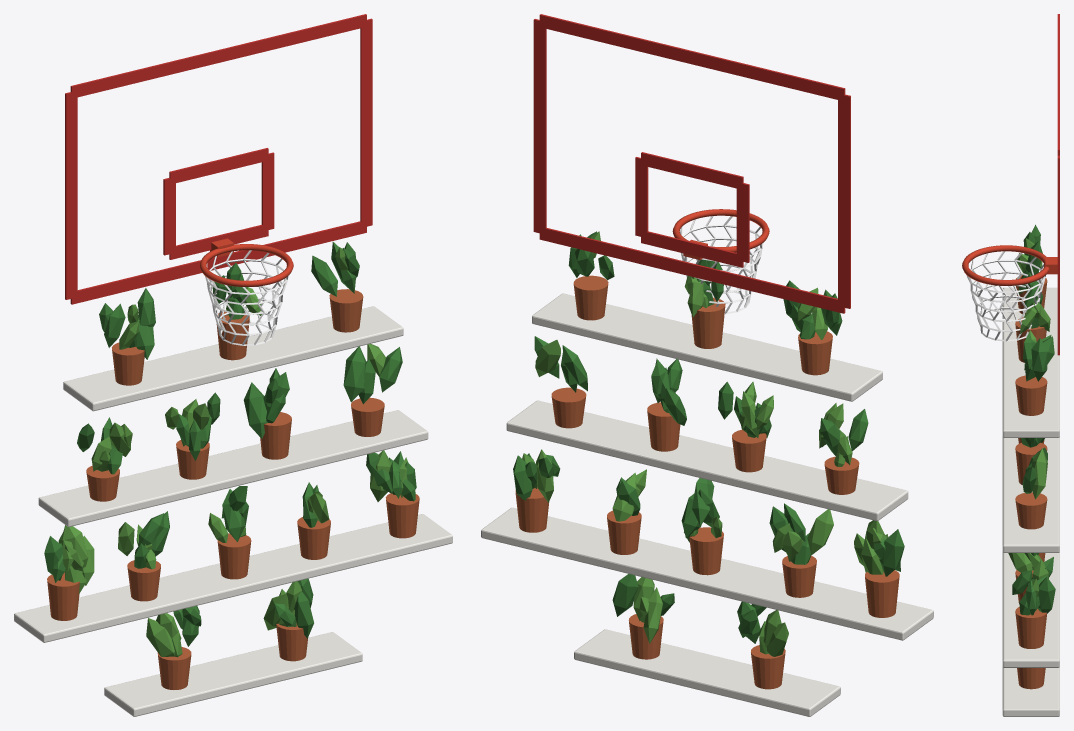
The model's file is hoopgarden.glb.
3 views of the same model, side by side, from view 1: azimuth 30°, elevation 25°; view 2: azimuth 150°, elevation 25°; view 3: azimuth 270°, elevation 25° (orthographic). The views are drawn at different scales.
Parts seen in each view (by area): view 1: Cube.011, Cube.010, Cube.009, Cube.012, Cube, Cube.001, net, Cube.002, Cube.003, Torus, Cube.004, Cylinder.011 (+19 smaller); view 2: Cube.011, Cube.010, Cube.009, Cube.012, Cube, Cube.001, Cube.003, Cube.002, net, Cube.004, Cube.005, Cylinder.007 (+19 smaller); view 3: Cube.009, Cube.010, Cube.011, net, Cube.012, Torus, Cylinder.002, Cylinder.011, Cylinder.006, Cube.003, Cylinder.005, Cylinder.013 (+18 smaller).
Part boxes in pixels (left/top/right/bottom): Cube.011: left=14, top=514, right=452, bottom=642; Cube.010: left=38, top=410, right=428, bottom=526; Cube.009: left=63, top=306, right=403, bottom=411; Cube.012: left=104, top=632, right=362, bottom=716; Cube: left=70, top=14, right=366, bottom=98; Cube.001: left=70, top=221, right=366, bottom=304; net: left=205, top=250, right=288, bottom=345; Cube.002: left=65, top=92, right=77, bottom=299; Cube.003: left=360, top=18, right=372, bottom=227; Torus: left=200, top=244, right=293, bottom=286; Cube.004: left=169, top=148, right=268, bottom=182; Cylinder.011: left=385, top=493, right=419, bottom=538; Cube.011: left=481, top=507, right=933, bottom=640; Cube.010: left=506, top=400, right=908, bottom=520; Cube.009: left=532, top=293, right=882, bottom=401; Cube.012: left=574, top=629, right=840, bottom=716; Cube: left=539, top=14, right=845, bottom=101; Cube.001: left=539, top=227, right=845, bottom=313; Cube.003: left=533, top=19, right=546, bottom=234; Cube.002: left=838, top=94, right=850, bottom=308; net: left=680, top=216, right=763, bottom=314; Cube.004: left=641, top=152, right=743, bottom=189; Cube.005: left=641, top=230, right=743, bottom=267; Cylinder.007: left=865, top=570, right=899, bottom=617; Cube.009: left=1002, top=287, right=1059, bottom=437; Cube.010: left=1002, top=437, right=1059, bottom=552; Cube.011: left=1002, top=552, right=1059, bottom=667; net: left=966, top=251, right=1045, bottom=341; Cube.012: left=1002, top=667, right=1059, bottom=716; Torus: left=962, top=245, right=1049, bottom=285; Cylinder.002: left=1015, top=375, right=1047, bottom=415; Cylinder.011: left=1015, top=607, right=1046, bottom=648; Cylinder.006: left=1015, top=492, right=1047, bottom=529; Cube.003: left=1057, top=155, right=1059, bottom=352; Cylinder.005: left=1015, top=442, right=1047, bottom=484; Cylinder.013: left=1017, top=668, right=1045, bottom=689.
Size of the model in its own units: 1.25 by 1.8 by 0.274.
